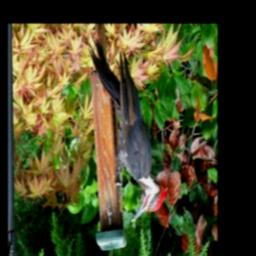Woodpecker: (88, 37, 168, 224)
